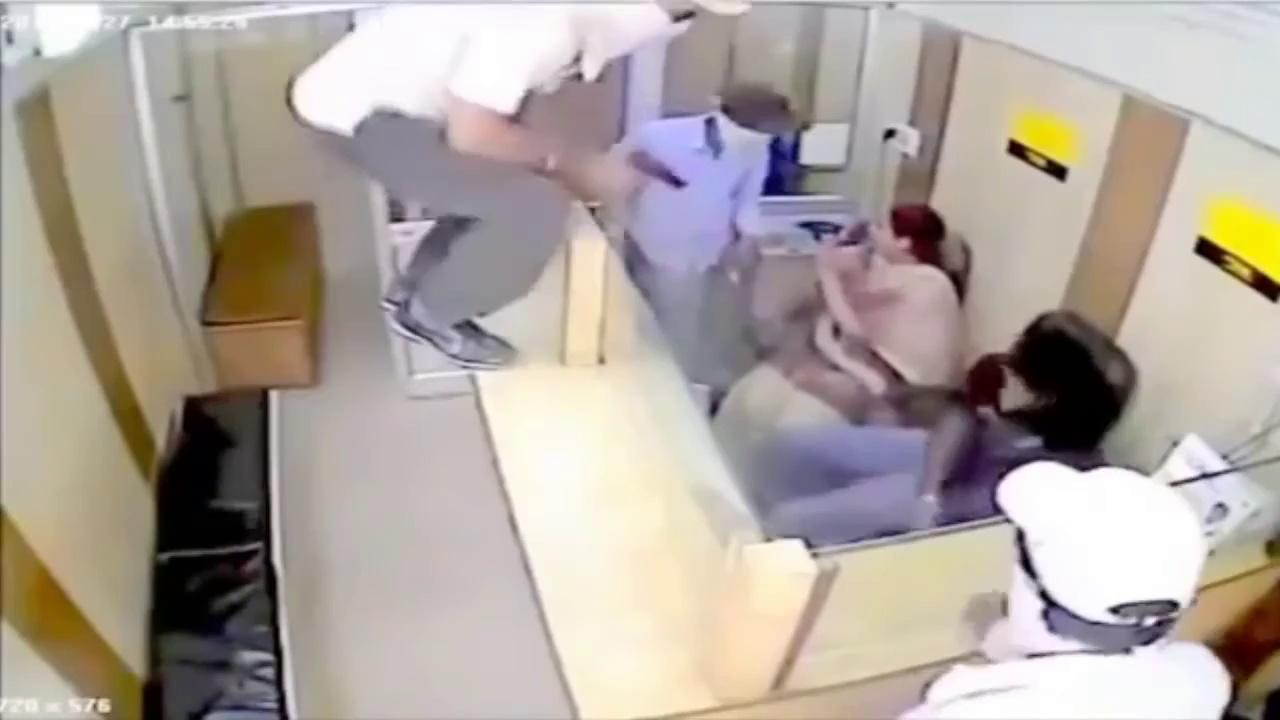weapon: (617, 148, 692, 203)
